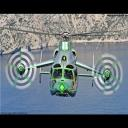helicopter: (5, 24, 127, 105)
